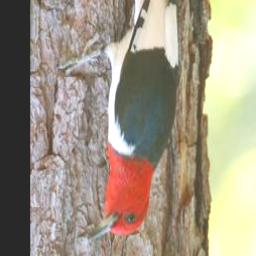Woodpecker: (57, 0, 181, 242)
